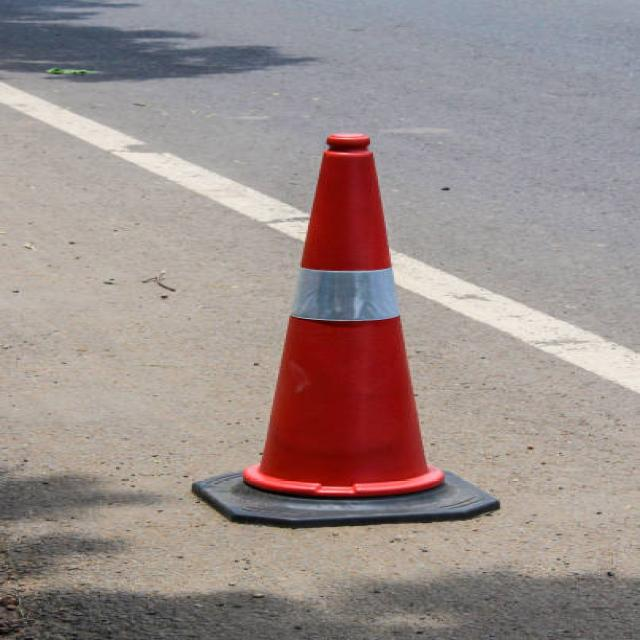Traffic Cone: (40, 30, 630, 596)
